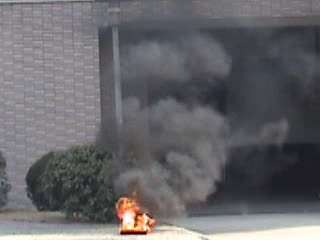smoke: (113, 38, 230, 211)
